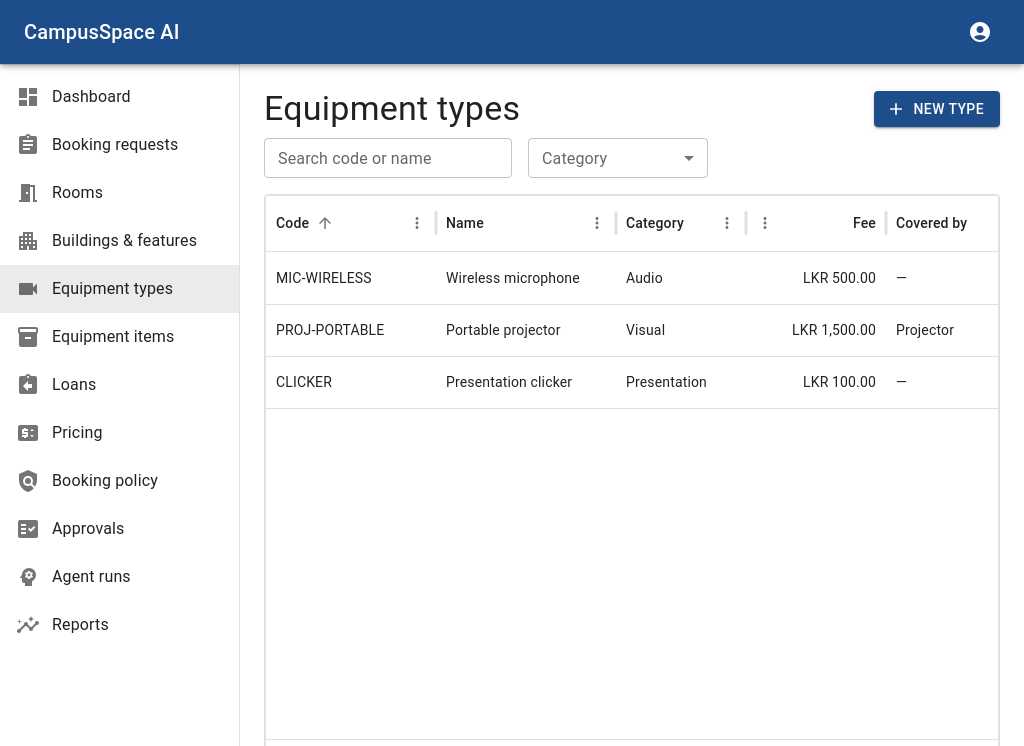
Test: EquipmentTypeFormDialog › rejects a fee with more than two decimals before sending
The image size is (1024, 746).
Click the button "New type" at x=937, y=109, box [874, 91, 1000, 127]
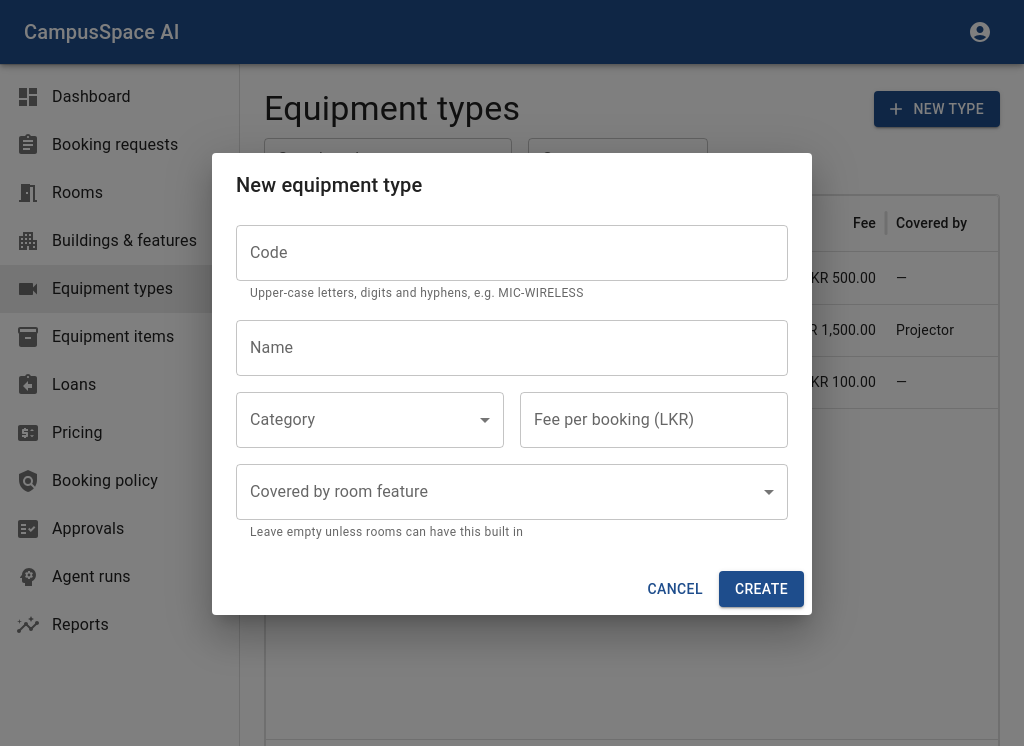
Type "hdmi-cable" into the field labelled "Code" at x=512, y=253, box [236, 225, 788, 281]
Type "HDMI cable" into the field labelled "Name" at x=512, y=348, box [236, 320, 788, 376]
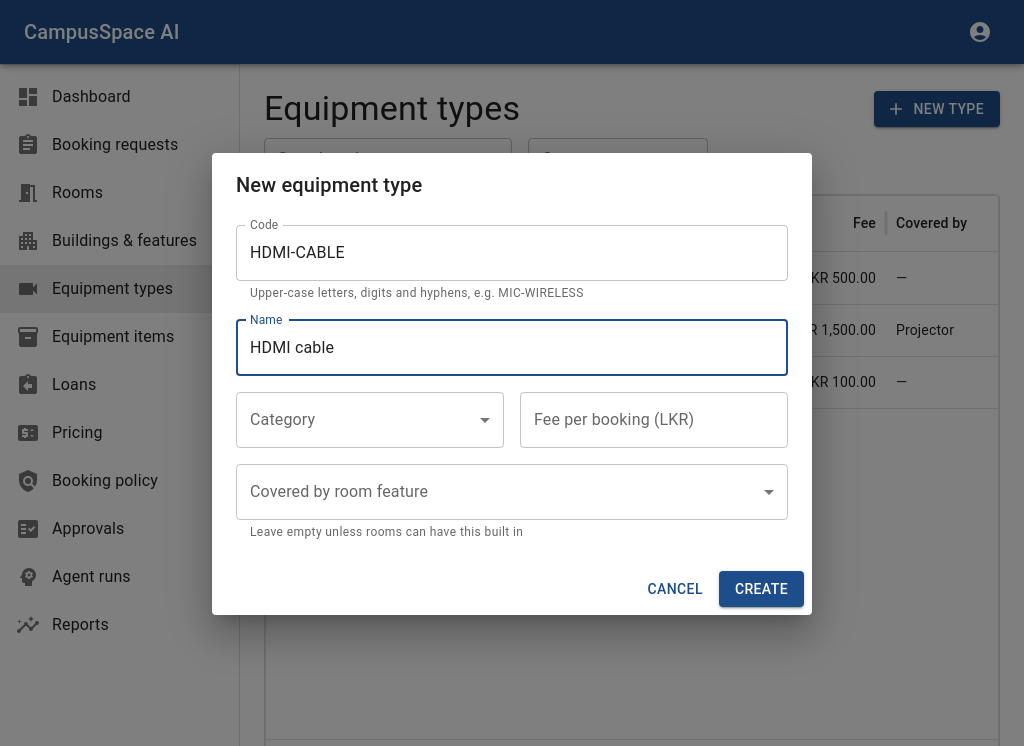
Click the dropdown named "Category" in the row of "Fee per booking (LKR)" at x=370, y=420, box [236, 392, 504, 448]
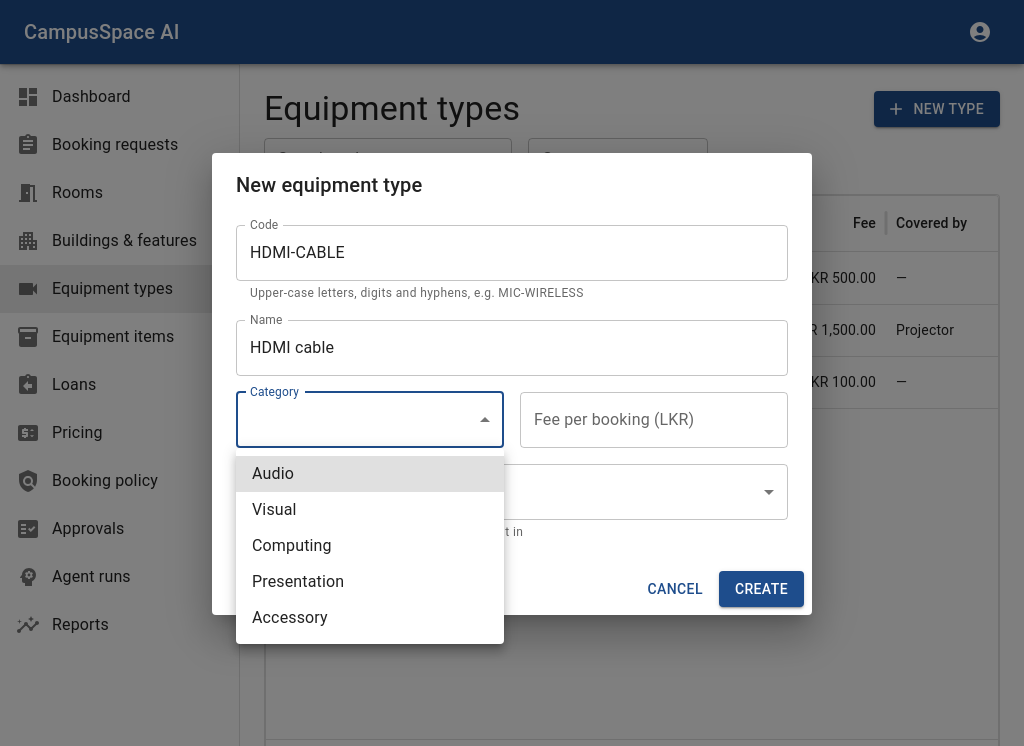
Click the option "Accessory" at x=290, y=618, box [252, 608, 328, 627]
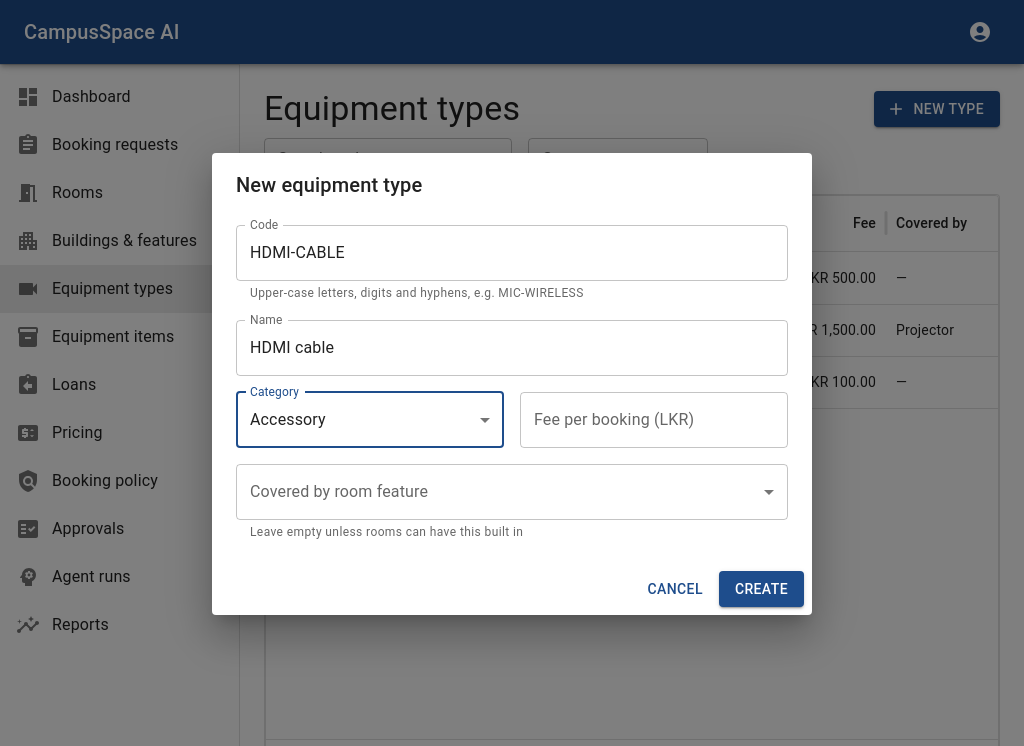
Type "50" into the field labelled "Fee per booking (LKR)" at x=654, y=420, box [520, 392, 788, 448]
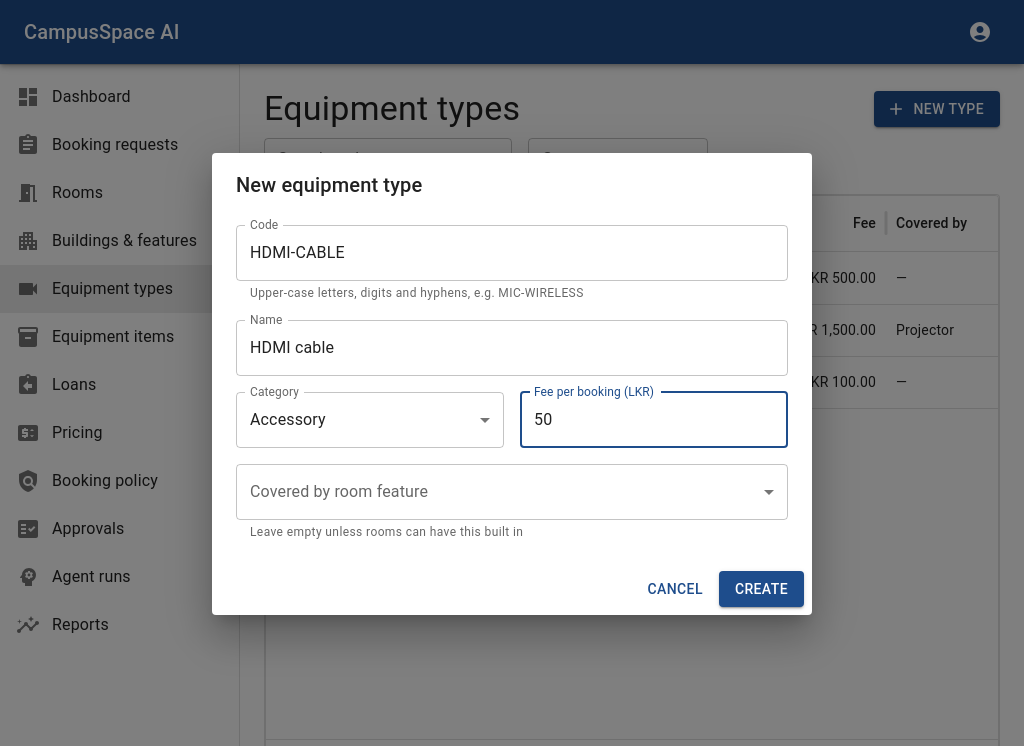
Type ".345" into the field labelled "Fee per booking (LKR)" at x=654, y=420, box [520, 392, 788, 448]
Click the button "Create" at x=761, y=589, box [719, 571, 804, 607]
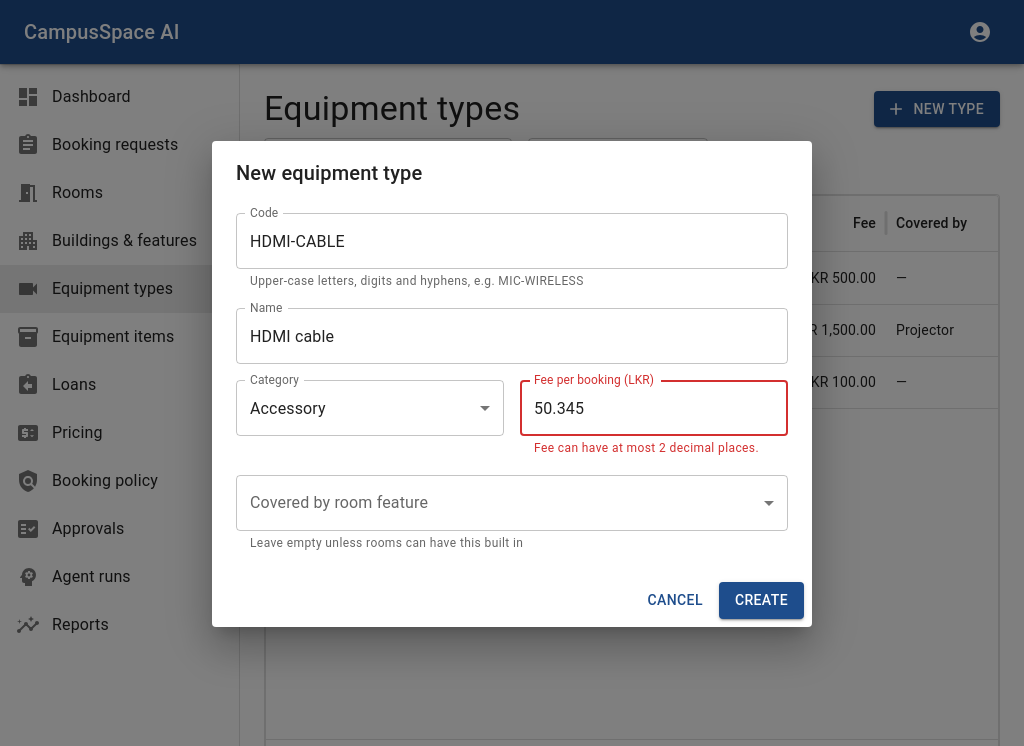
Expected: the text "Fee can have at most 2 decimal places." is shown, [534, 439, 774, 459]
